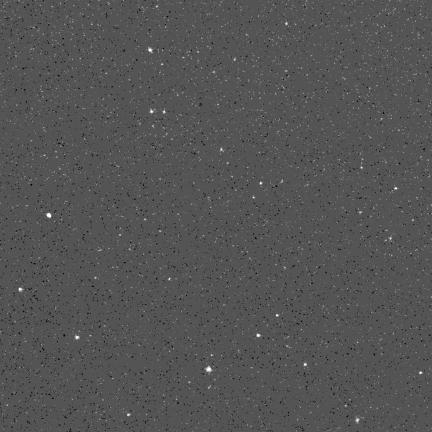blob: (206, 366, 213, 373), (46, 213, 51, 218), (75, 335, 80, 340), (148, 48, 152, 52), (19, 287, 23, 291), (285, 22, 289, 26), (257, 333, 261, 337), (260, 181, 263, 186), (419, 371, 423, 374), (150, 110, 154, 113), (163, 111, 167, 114), (304, 362, 307, 366), (276, 314, 280, 317)
